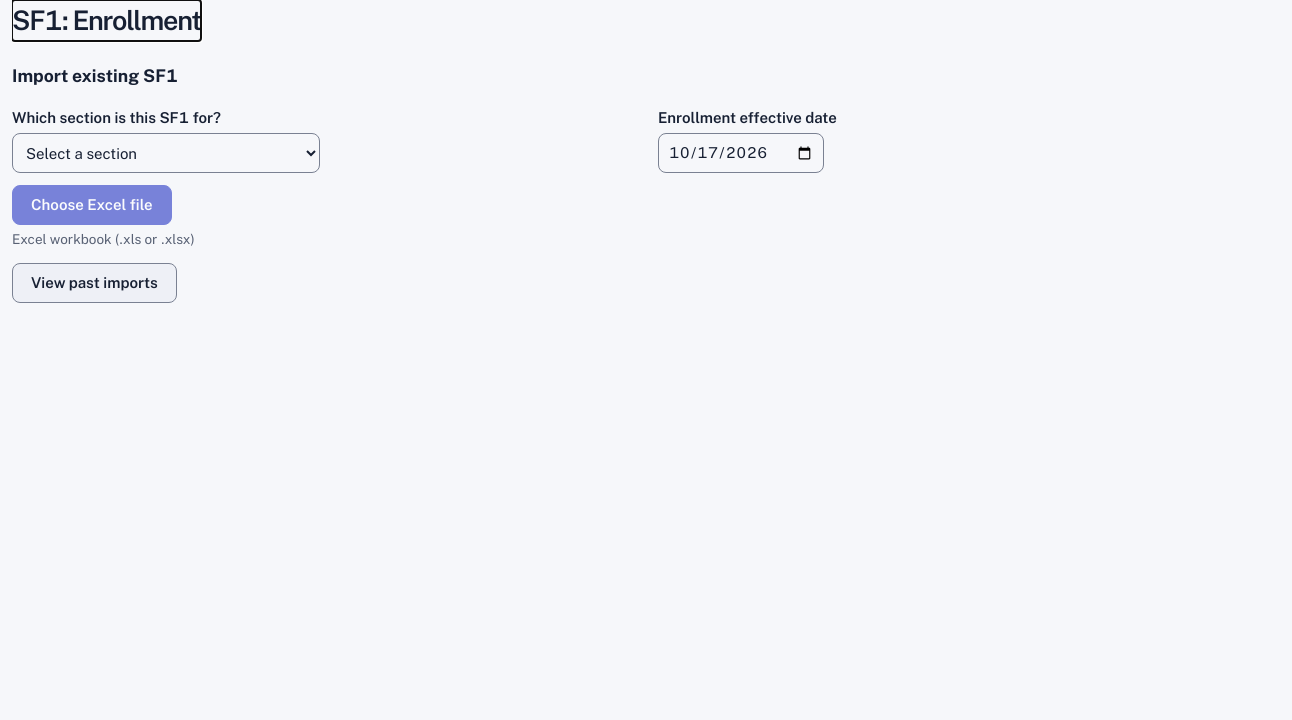
Scenario: Sf1ImportScreen › shows new/existing/needs-review/error counts after a successful preview
The image size is (1292, 720).
Select "Sampaguita — Grade 1 (2026-2027)" in the dropdown labelled "Which section is this SF1 for?" at (166, 153), box left=12, top=133, right=320, bottom=173
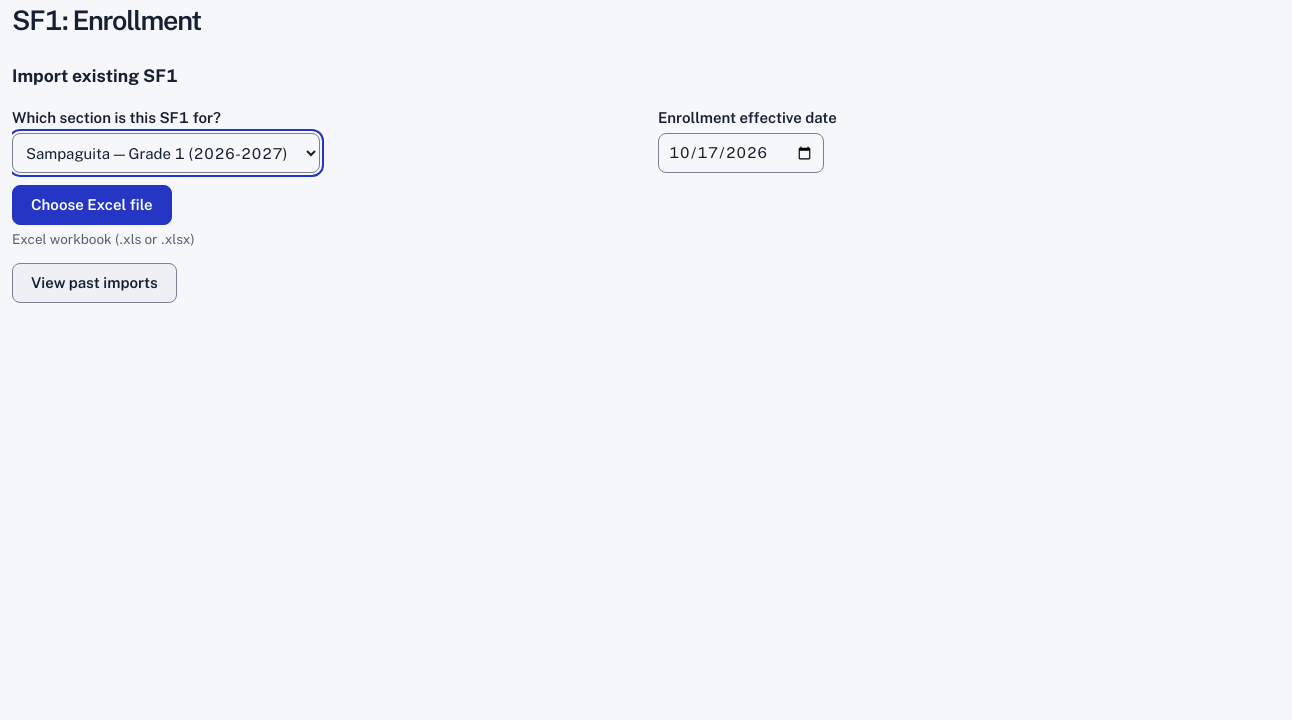
Click the button "Choose Excel file".
click(92, 205)  # box left=12, top=185, right=172, bottom=225
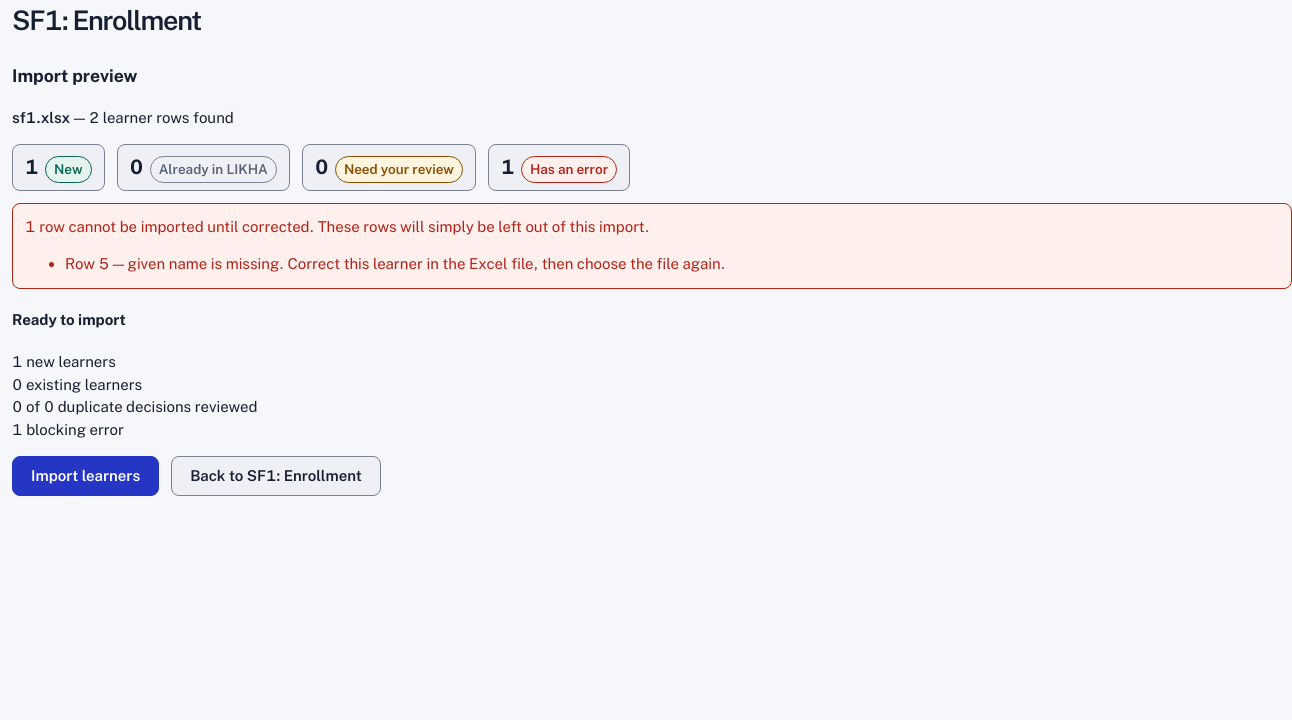
Now the heading "Import preview" is shown, box left=12, top=65, right=137, bottom=86
Now the 1st text "1" is shown, box left=25, top=152, right=39, bottom=182
Now the list item "Row 5 — given name is missing" is shown, box left=65, top=255, right=725, bottom=272
